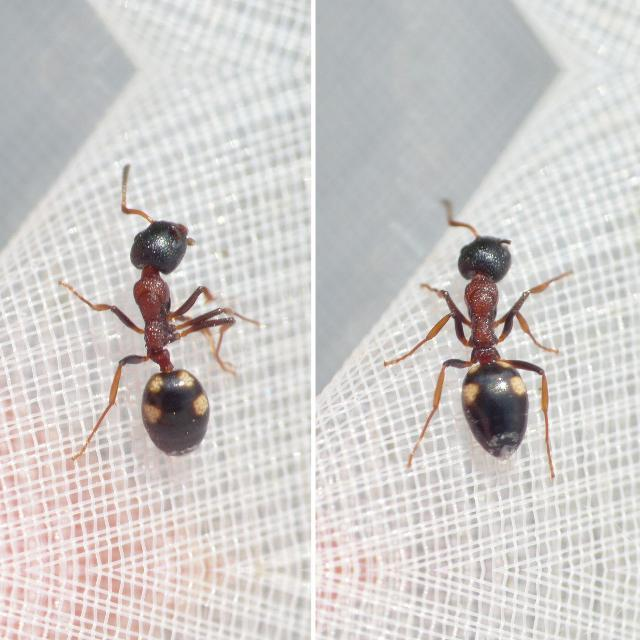Dolichoderus: (65, 168, 253, 464), (388, 196, 574, 478)
